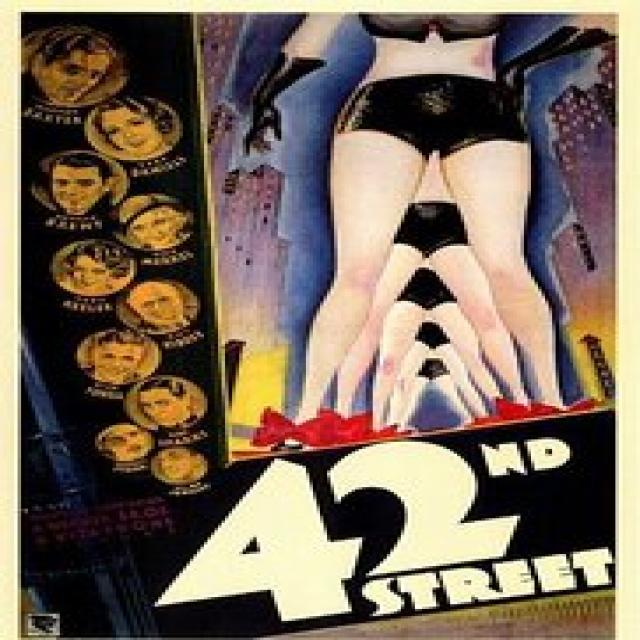movie-judul: (153, 393, 618, 639)
picture: (26, 12, 623, 503)
